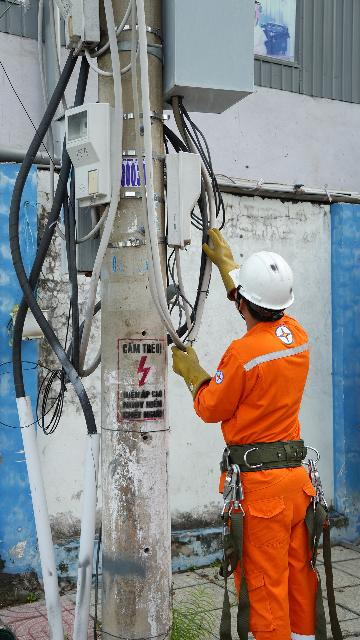gloves: (155, 332, 222, 409), (198, 223, 248, 297)
harness: (212, 430, 315, 481)
helmet: (237, 246, 298, 314)
